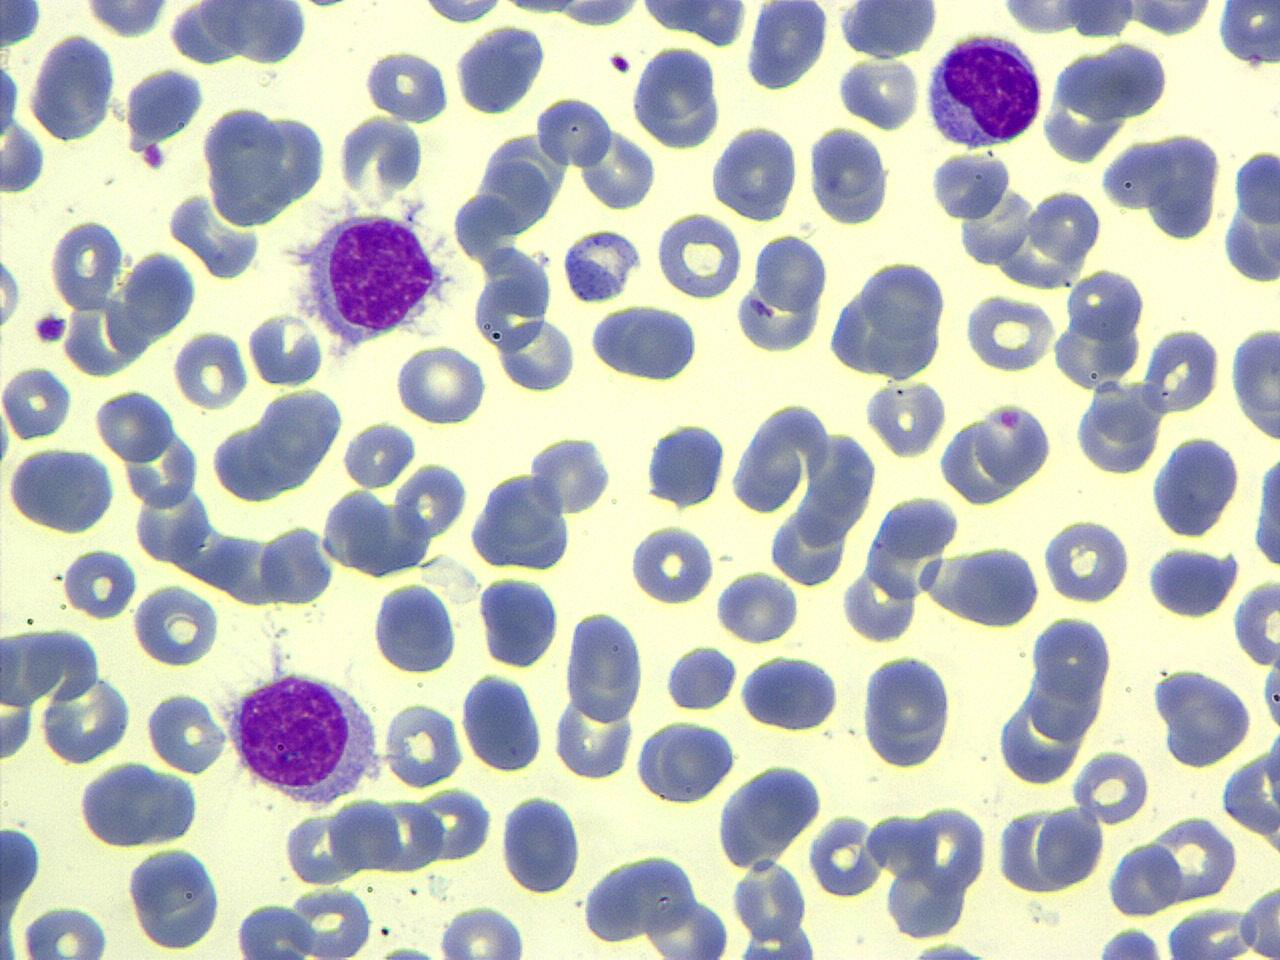Platelets: (364, 48, 450, 125), (244, 312, 325, 387), (0, 55, 21, 141), (910, 939, 987, 960), (32, 310, 68, 348), (140, 141, 168, 172), (606, 50, 632, 75)
RBC: (858, 649, 956, 772), (734, 229, 828, 356), (862, 490, 962, 607), (126, 842, 227, 954), (200, 104, 291, 226), (1154, 664, 1254, 772), (996, 678, 1090, 789), (1149, 430, 1241, 541), (963, 398, 1057, 502), (563, 607, 647, 724), (588, 301, 703, 383), (707, 122, 800, 224), (632, 716, 738, 804), (496, 792, 584, 896), (806, 123, 894, 227), (460, 672, 546, 774), (40, 670, 132, 766), (1040, 514, 1134, 607), (1145, 129, 1221, 243), (741, 3, 833, 97), (1074, 382, 1162, 480), (736, 652, 842, 733), (959, 290, 1058, 375), (1222, 146, 1280, 288), (1143, 322, 1223, 424), (478, 572, 560, 670), (130, 580, 222, 668), (1029, 615, 1115, 709), (641, 422, 729, 512), (656, 210, 742, 303), (394, 343, 489, 427), (907, 800, 989, 896), (1152, 812, 1240, 902), (550, 690, 634, 784), (628, 520, 718, 607), (527, 433, 616, 519), (952, 544, 1042, 628), (146, 686, 228, 778), (862, 377, 951, 460), (380, 700, 464, 788), (1143, 544, 1239, 620), (732, 855, 811, 946), (494, 310, 578, 395), (579, 123, 658, 212), (48, 217, 121, 312), (256, 521, 334, 609), (362, 47, 450, 125), (808, 810, 884, 899), (1064, 265, 1148, 345), (123, 427, 202, 511), (284, 884, 374, 958), (559, 226, 641, 306), (285, 804, 361, 889), (1034, 802, 1104, 894), (1227, 322, 1279, 445), (1103, 838, 1183, 918), (836, 54, 919, 131), (714, 568, 797, 644), (172, 327, 247, 412), (1070, 747, 1150, 826), (246, 309, 328, 384), (328, 794, 402, 876), (60, 544, 138, 622), (1, 360, 75, 443), (928, 147, 1012, 220), (535, 93, 612, 171), (95, 385, 172, 461), (1098, 136, 1172, 214), (1164, 904, 1268, 958), (338, 419, 415, 491), (18, 903, 114, 959), (0, 87, 49, 195), (661, 643, 737, 711), (436, 904, 528, 958), (1232, 574, 1280, 668), (1213, 1, 1280, 69), (729, 918, 824, 960), (1123, 0, 1219, 38), (1235, 879, 1280, 959), (81, 0, 172, 38), (994, 0, 1089, 36), (414, 0, 508, 28), (0, 1, 45, 51), (0, 250, 23, 336)
WBC: (222, 666, 386, 809), (296, 206, 447, 348), (1040, 32, 1172, 164), (823, 255, 951, 385), (200, 98, 323, 228), (212, 385, 343, 506), (922, 29, 1046, 152), (939, 396, 1058, 506), (992, 672, 1102, 790), (714, 760, 826, 874), (732, 230, 830, 358), (858, 649, 957, 773), (77, 760, 205, 852), (466, 468, 575, 573), (1151, 663, 1257, 770), (125, 842, 226, 954), (5, 442, 119, 536), (629, 42, 727, 151), (1148, 432, 1242, 542), (27, 30, 119, 142), (564, 609, 648, 730), (708, 120, 802, 224), (588, 299, 702, 384), (806, 121, 894, 230), (459, 668, 546, 776), (496, 790, 585, 896), (634, 718, 740, 804), (738, 649, 842, 736), (453, 23, 548, 116), (370, 578, 459, 678), (476, 574, 564, 669), (642, 416, 728, 513), (1224, 142, 1280, 287), (744, 0, 833, 92), (1220, 720, 1280, 854), (1144, 544, 1240, 622), (199, 1, 310, 66), (886, 862, 974, 943), (120, 64, 208, 143), (560, 225, 641, 308), (836, 2, 942, 62), (1, 36, 35, 198), (662, 641, 738, 713), (634, 0, 750, 44), (1250, 430, 1280, 586), (718, 919, 828, 959), (1054, 0, 1142, 37), (0, 1, 45, 53)
